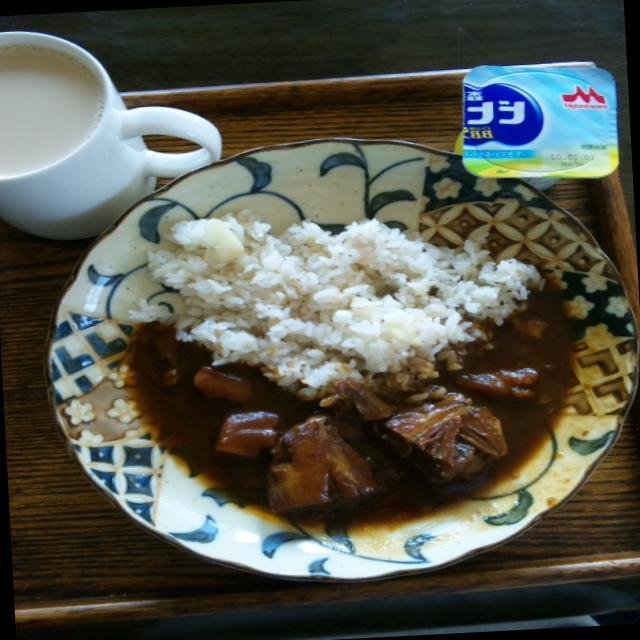Beef Curry: (105, 312, 601, 522)
